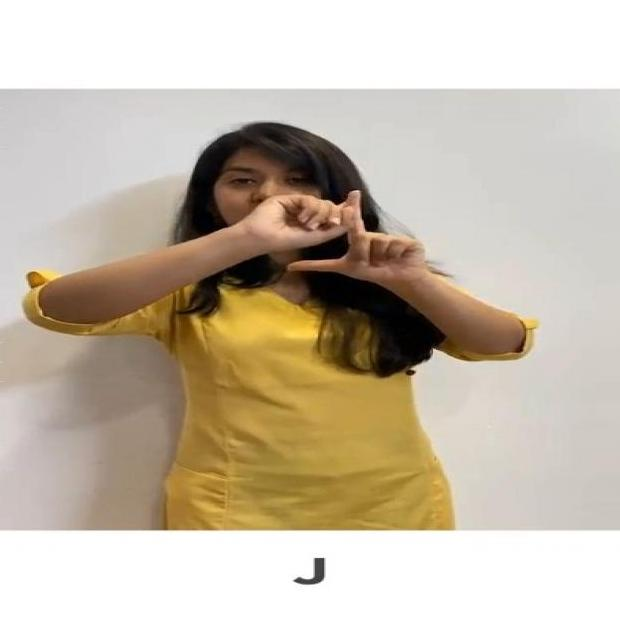I: (235, 178, 450, 305)
